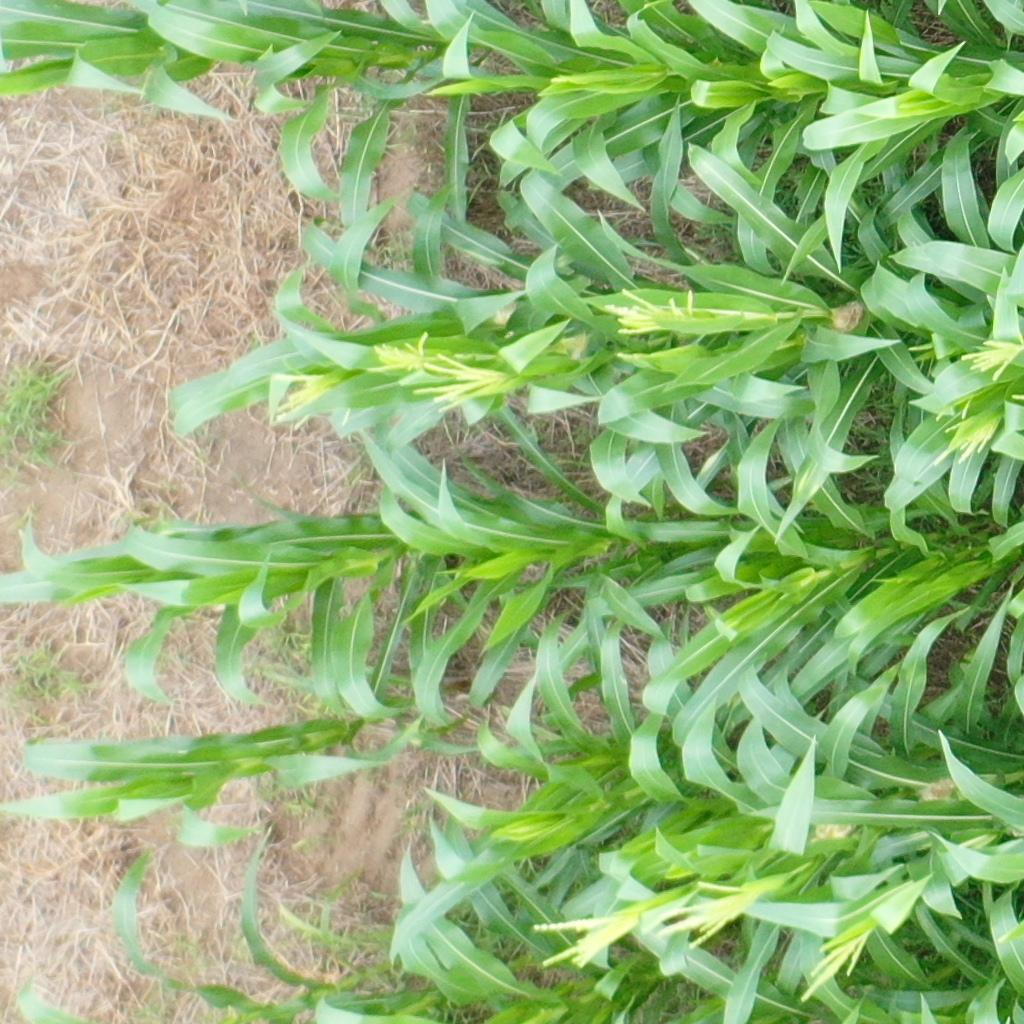Tassel: (653, 879, 764, 951), (531, 908, 642, 971), (409, 351, 511, 415), (936, 391, 1013, 471), (800, 926, 877, 1001), (606, 282, 704, 337), (364, 330, 436, 379), (273, 378, 329, 435), (963, 335, 1023, 380)
